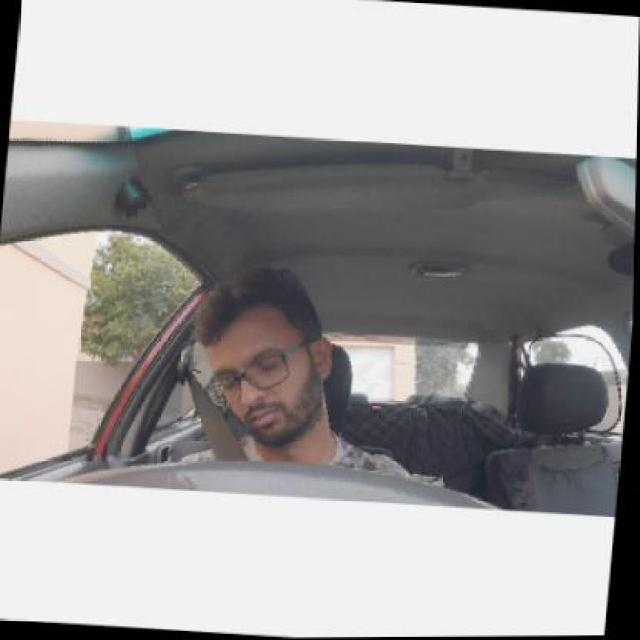drowsy: (172, 270, 363, 474)
